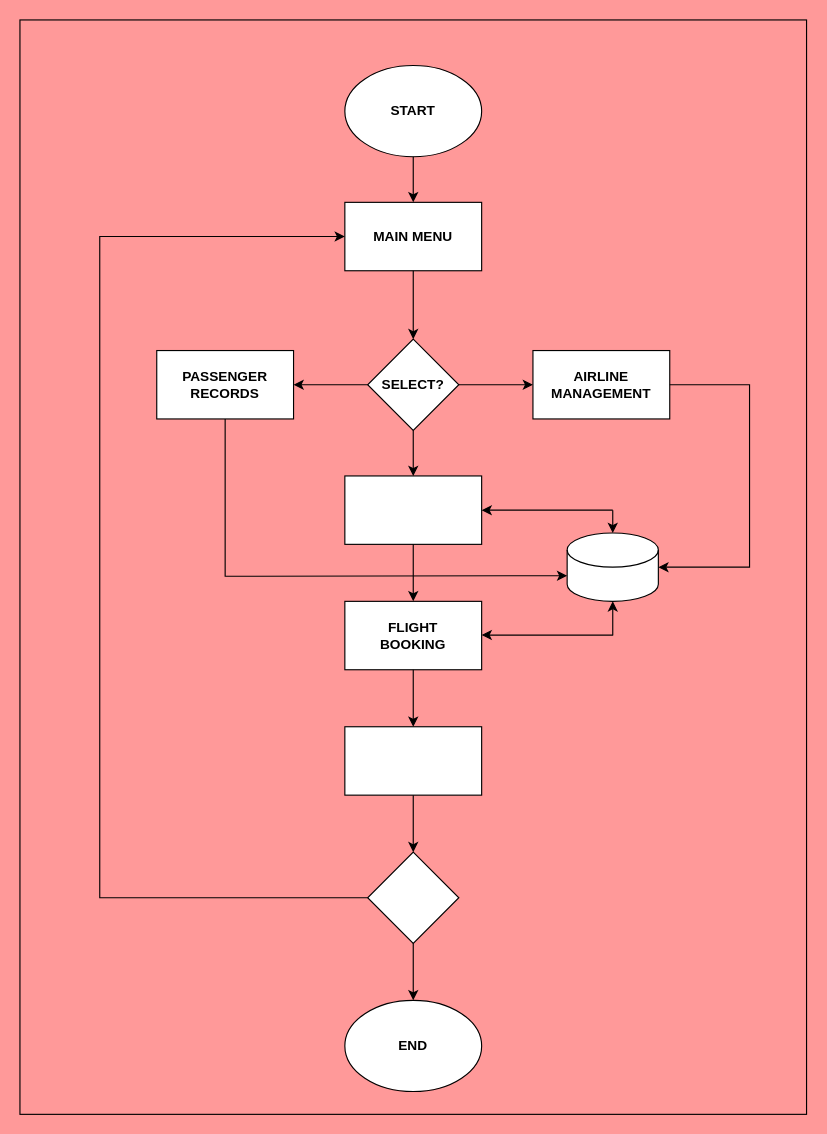
This 827x1134 diagram has some shape labels left out. Each missing label, with the centre of its shape:
"FLIGHTS DASHBOARD" belongs at [413,509].
"MySQL DBMS" belongs at [612,566].
"RETURN BACK?" belongs at [413,897].
"TICKET GENERATION" belongs at [413,760].
